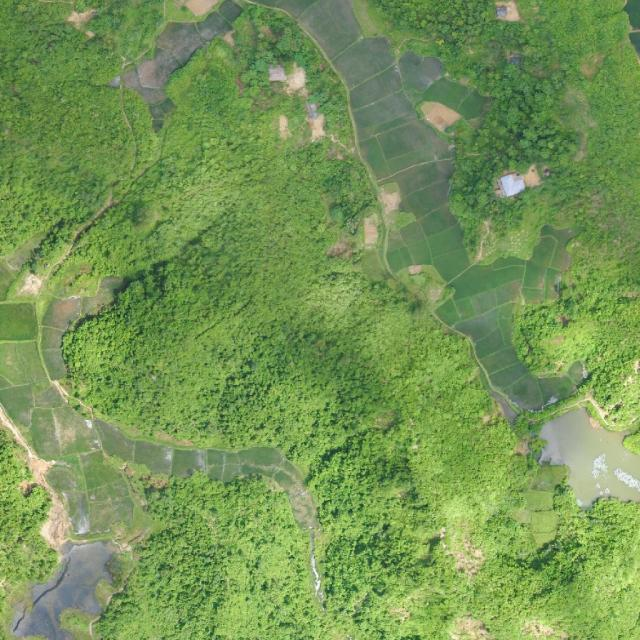agricultural_land: (85, 384, 339, 534), (0, 295, 145, 551), (107, 0, 245, 131), (421, 73, 471, 112), (455, 87, 491, 124)
building: (499, 170, 528, 197)
greenland: (0, 429, 58, 584)
